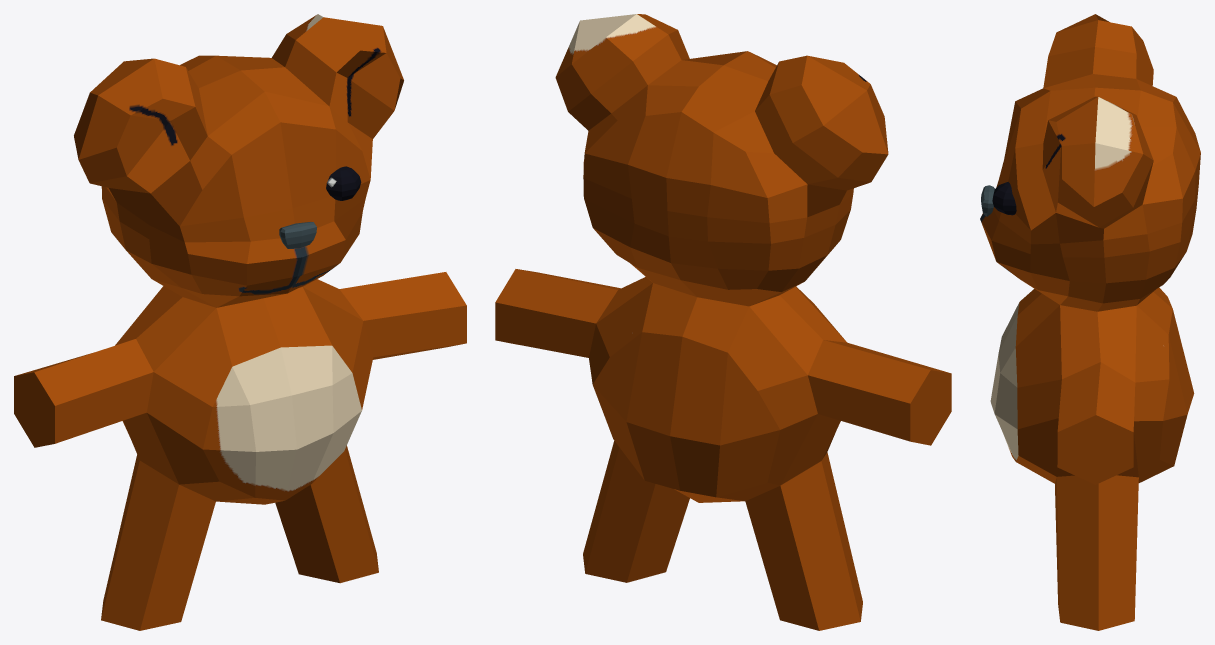
File: Bobo_V2.obj
3 views of the same model, side by side, from view 1: azimuth 30°, elevation 25°; view 2: azimuth 150°, elevation 25°; view 3: azimuth 270°, elevation 25° (orthographic). The views are drawn at different scales.
Parts seen in each view (by area): view 1: Teddy_Bear.001_Cube.004; view 2: Teddy_Bear.001_Cube.004; view 3: Teddy_Bear.001_Cube.004.
Part boxes in pixels (<box>): Teddy_Bear.001_Cube.004: <box>14,14,466,630</box>; Teddy_Bear.001_Cube.004: <box>495,14,951,630</box>; Teddy_Bear.001_Cube.004: <box>980,14,1200,630</box>.
Size of the model in its own units: 0.2749 by 0.35 by 0.1374.
